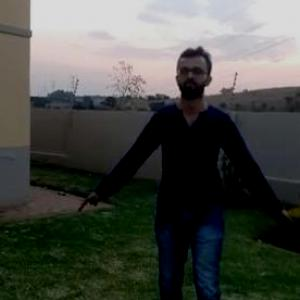land: (101, 53, 288, 297)
